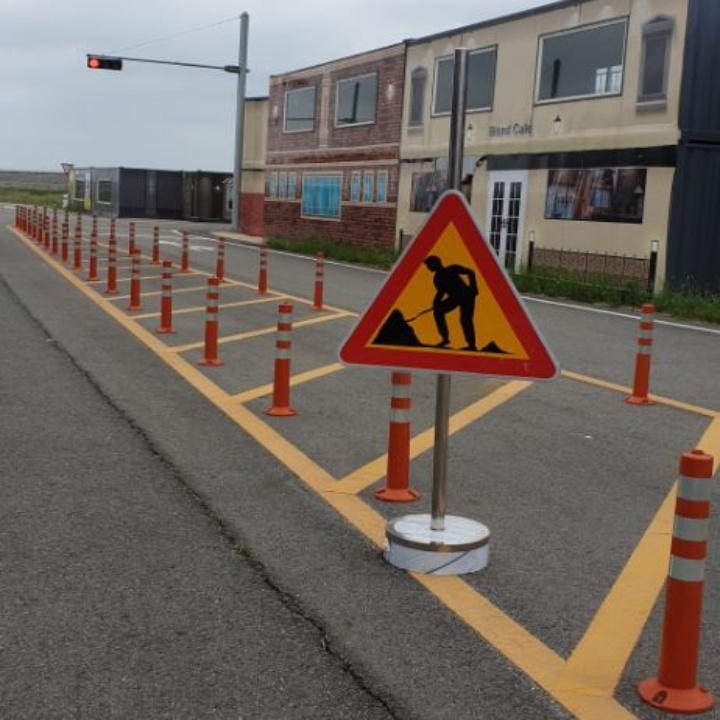const: (373, 244, 519, 356)
